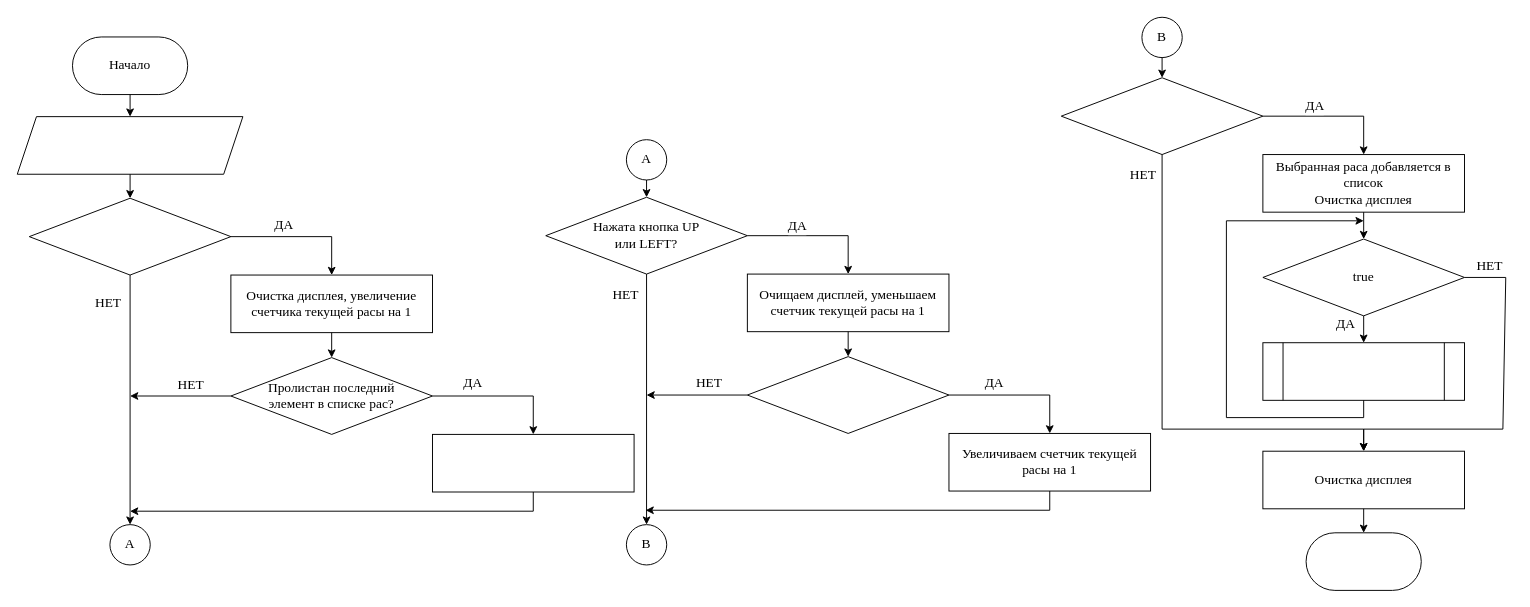
Image size: 1530x607. Some labels were removed from this diagram. The centre of each missing label's shape, as x and y in pixels:
Вывод на экран сообщение "Select race" и текущий вариант расы персонажа: the point at 129,145
Вызов подпрограммы для выбора расы: the point at 1363,371
Конец: the point at 1363,561
Нажата кнопка RIGHT или DOWN?: the point at 129,236
Нажата кнопка SELECT?: the point at 1161,116
Пролистан первый элемент в списке рас?: the point at 847,394
Уменьшение счетчика текущей расы на 1: the point at 533,462
